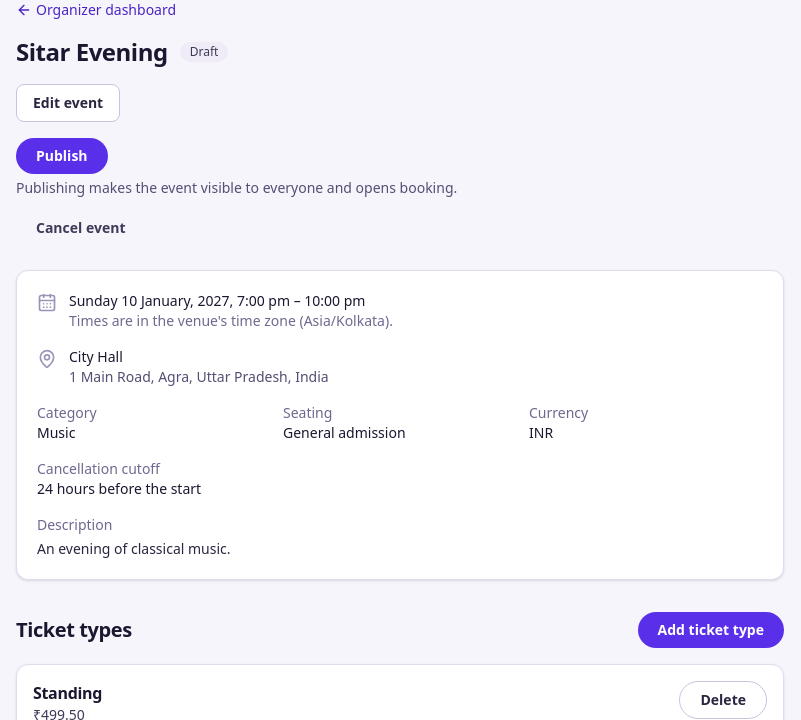
Scenario: OrganizerEventPage › ticket types › deletes a ticket type only after a second, explicit confirmation
Expected: the heading "Standing" is shown, [33, 682, 102, 704]
Click the button with aria-label "Delete Standing" at (723, 700), box [680, 681, 767, 719]
(page scrolled)
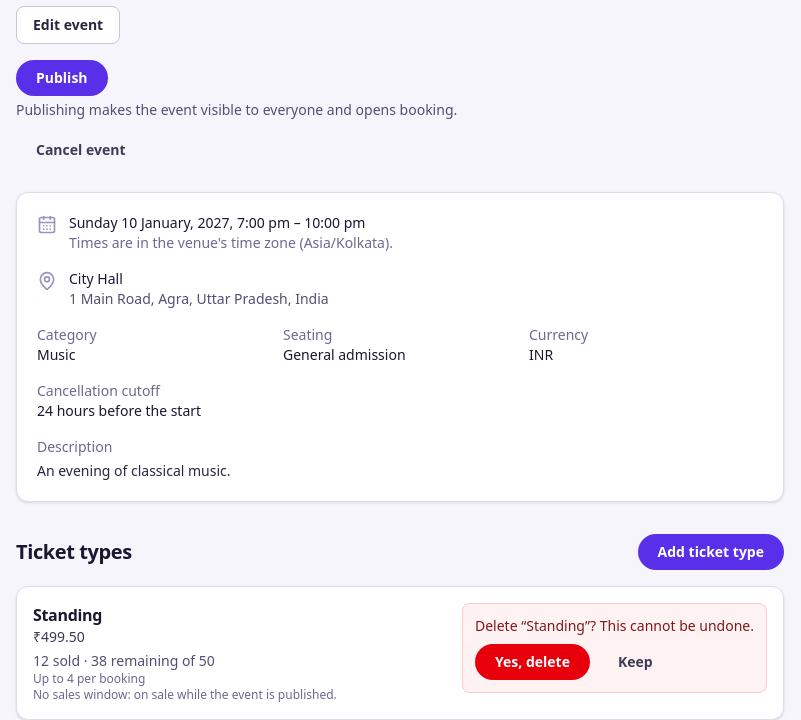
Click the button "Yes, delete" at (532, 662), box [475, 644, 590, 680]
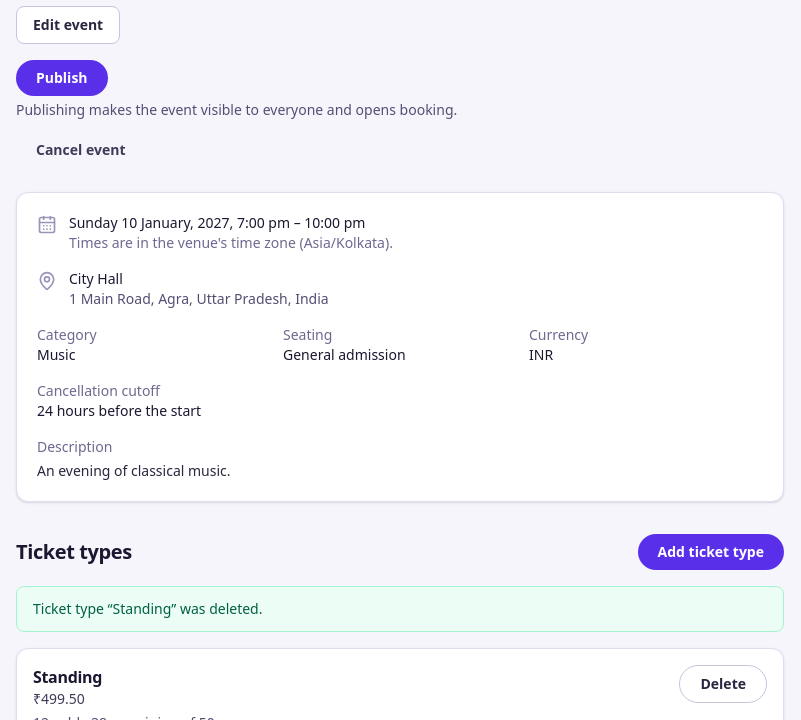
Expected: the text "Ticket type “Standing” was deleted." is shown, [16, 586, 784, 632]
